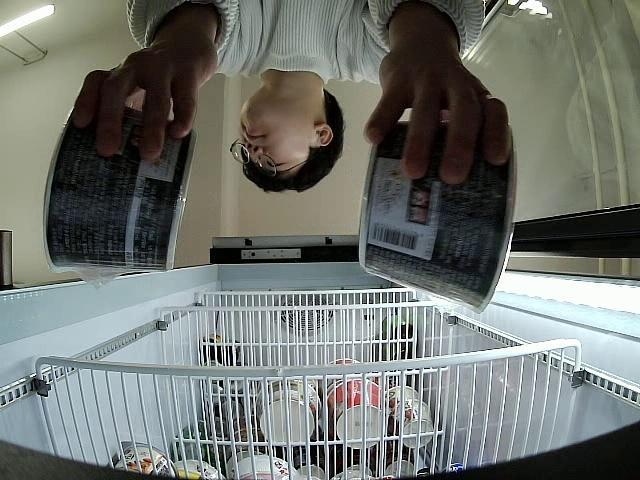07_buldak_L: (358, 115, 516, 316), (43, 92, 198, 276)
